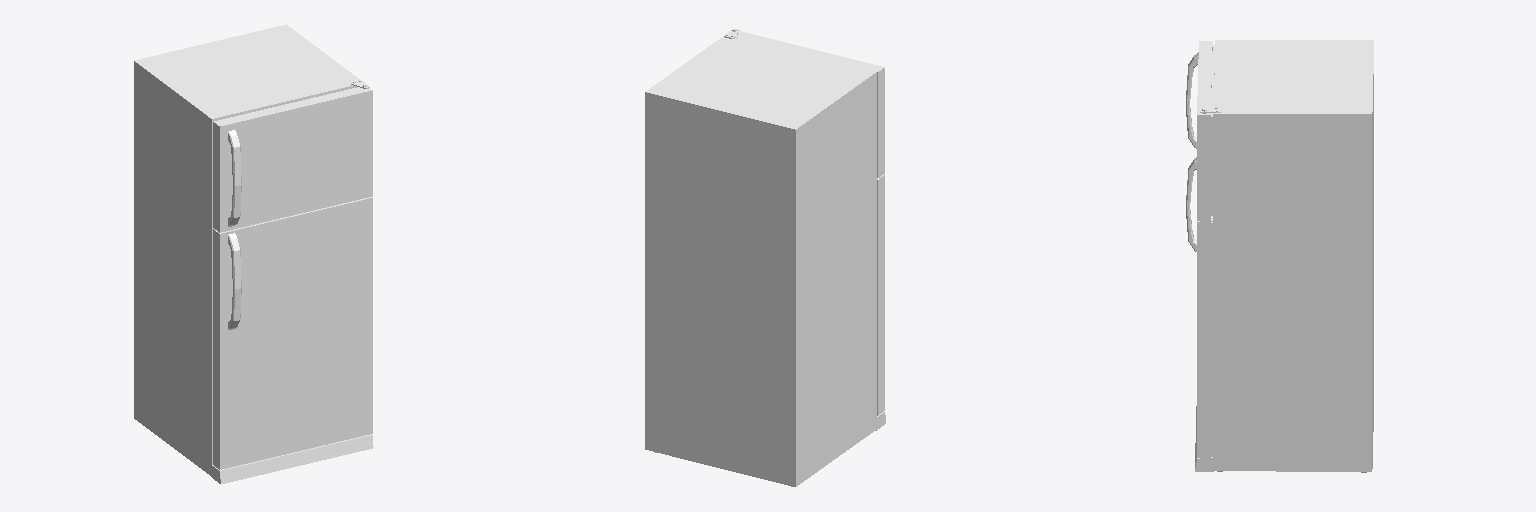
The picture shows the model from 3 angles: view 1: azimuth 30°, elevation 25°; view 2: azimuth 150°, elevation 25°; view 3: azimuth 270°, elevation 25°; orthographic projection.
Visible parts, largest first — view 1: initialShadingGroupMesh6; view 2: initialShadingGroupMesh6; view 3: initialShadingGroupMesh6.
Part boxes in pixels (x1,y1,x2,y2): initialShadingGroupMesh6: (134, 24, 373, 483); initialShadingGroupMesh6: (645, 28, 885, 486); initialShadingGroupMesh6: (1186, 40, 1373, 472).
Bounding box in the file's own units: 1.31 × 2.96 × 1.39.
Materials: 1 (1 with a texture image).